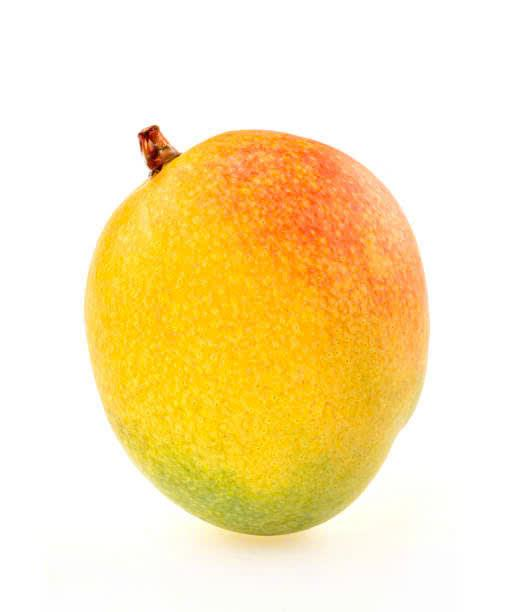mango: (88, 109, 434, 549)
